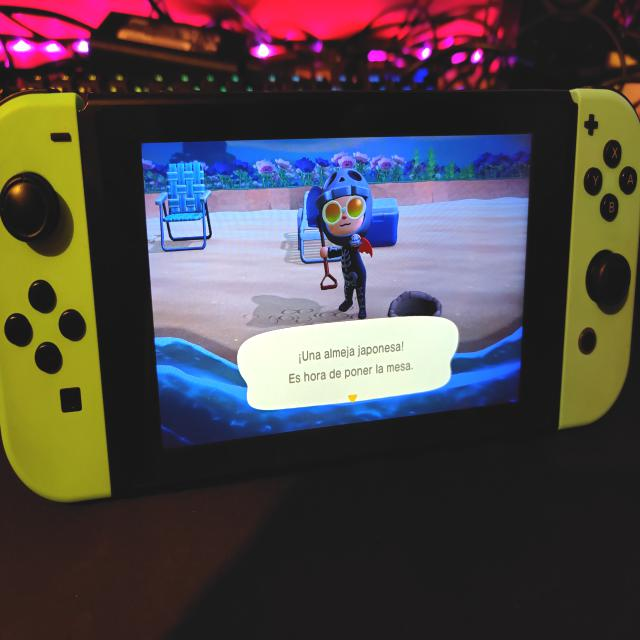text_bubble: (236, 313, 463, 414)
